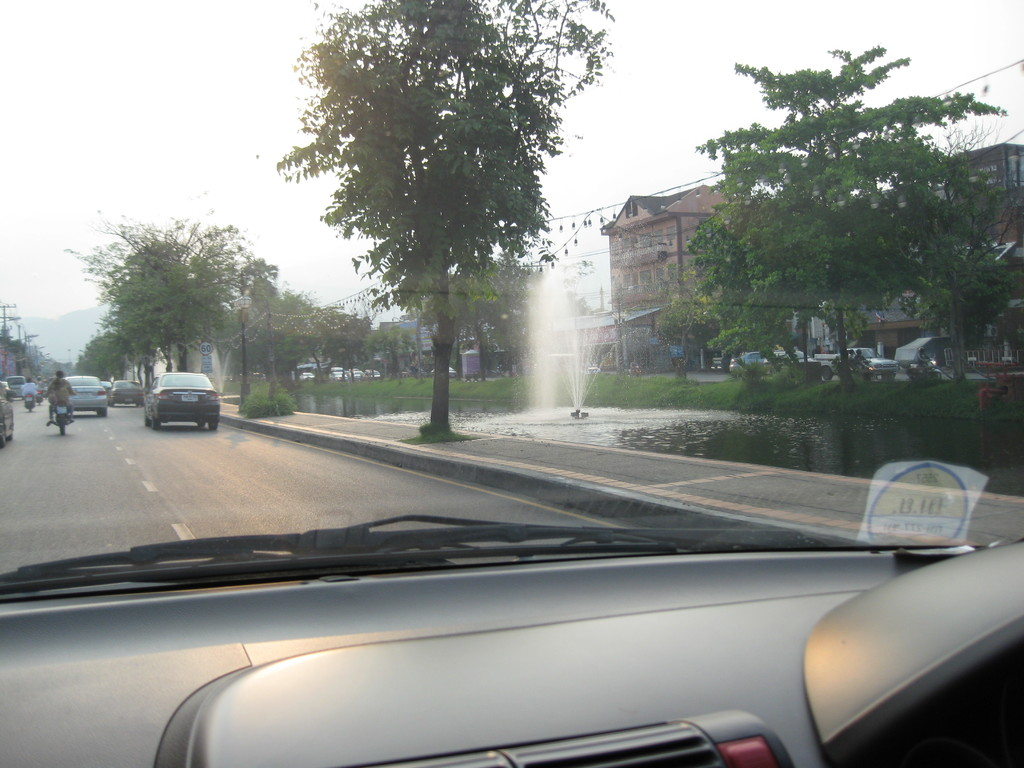Car: (0, 494, 1023, 767), (128, 359, 225, 430), (64, 375, 106, 420), (108, 378, 144, 407), (0, 379, 12, 441)
